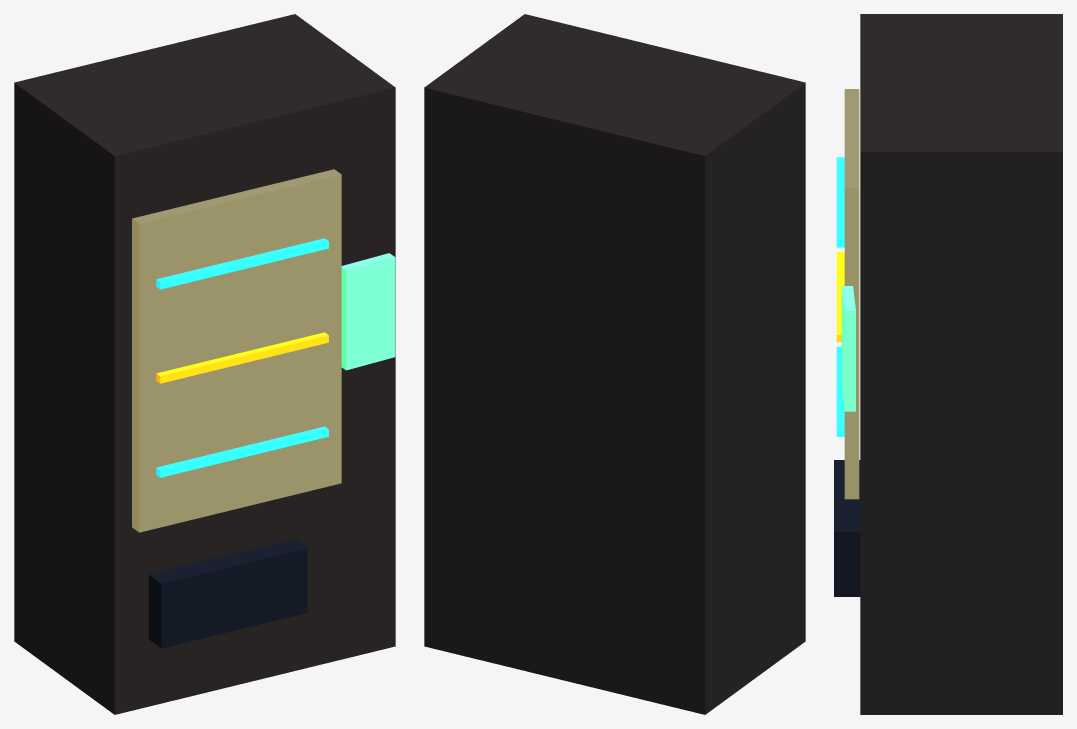
File: vending_unit.glb
3 renders of one model, left to right at view 1: azimuth 30°, elevation 25°; view 2: azimuth 150°, elevation 25°; view 3: azimuth 270°, elevation 25°, orthographic.
Visible parts, largest first — view 1: vending_unit_body, vending_unit_window, vending_unit_dispenser, vending_unit, vending_unit_payment_panel; view 2: vending_unit_body; view 3: vending_unit_body, vending_unit_window, vending_unit_dispenser, vending_unit, vending_unit_payment_panel.
Boxes of the visible parts, x1=… form: vending_unit_body: x1=14, y1=14, x2=395, y2=714; vending_unit_window: x1=132, y1=169, x2=341, y2=532; vending_unit_dispenser: x1=148, y1=539, x2=307, y2=648; vending_unit: x1=156, y1=238, x2=328, y2=477; vending_unit_payment_panel: x1=341, y1=253, x2=395, y2=370; vending_unit_body: x1=424, y1=14, x2=805, y2=714; vending_unit_body: x1=860, y1=14, x2=1062, y2=714; vending_unit_window: x1=844, y1=89, x2=859, y2=499; vending_unit_dispenser: x1=834, y1=460, x2=860, y2=596; vending_unit: x1=836, y1=157, x2=844, y2=436; vending_unit_payment_panel: x1=841, y1=286, x2=855, y2=411.
Bounding box in the file's own units: 1 × 1.9 × 0.7.
